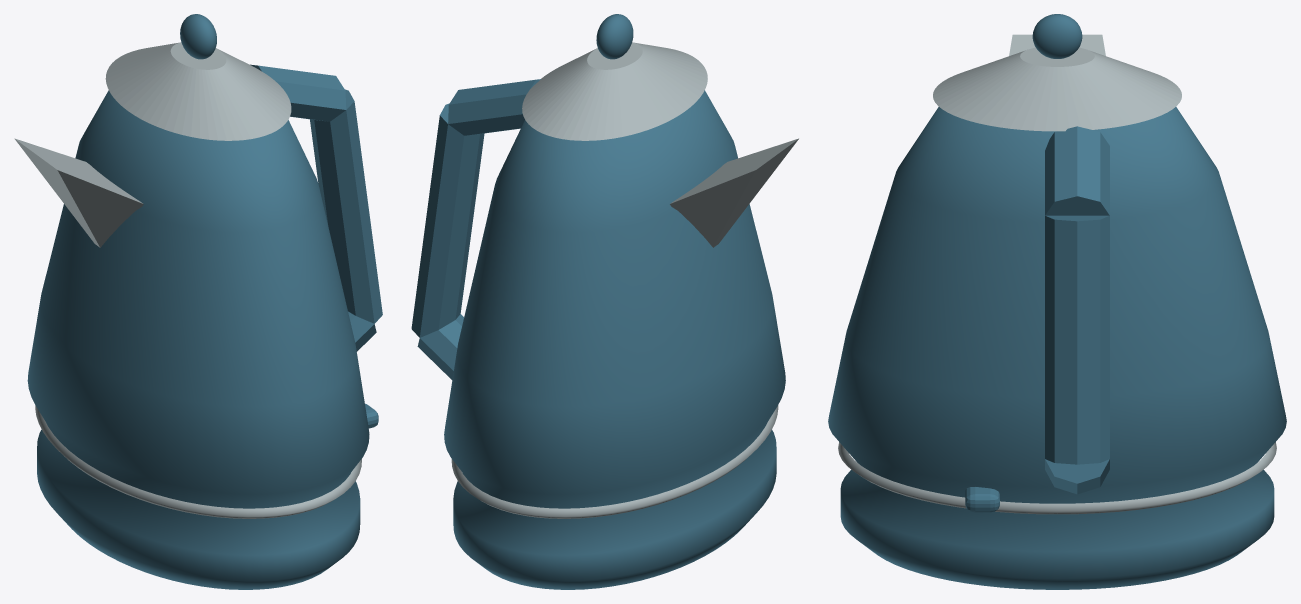
The model's file is delonghi-kettle.glb.
The picture shows the model from 3 angles, left to right: view 1: azimuth 30°, elevation 25°; view 2: azimuth 150°, elevation 25°; view 3: azimuth 270°, elevation 25°; orthographic projection. The views are drawn at different scales.
Parts seen in each view (by area): view 1: delonghi-kettle; view 2: delonghi-kettle; view 3: delonghi-kettle.
Part boxes in pixels (x1=…): delonghi-kettle: x1=14, y1=14, x2=382, y2=589; delonghi-kettle: x1=411, y1=14, x2=798, y2=589; delonghi-kettle: x1=828, y1=14, x2=1286, y2=589.
Bounding box in the file's own units: 0.22 × 0.2995 × 0.24.
